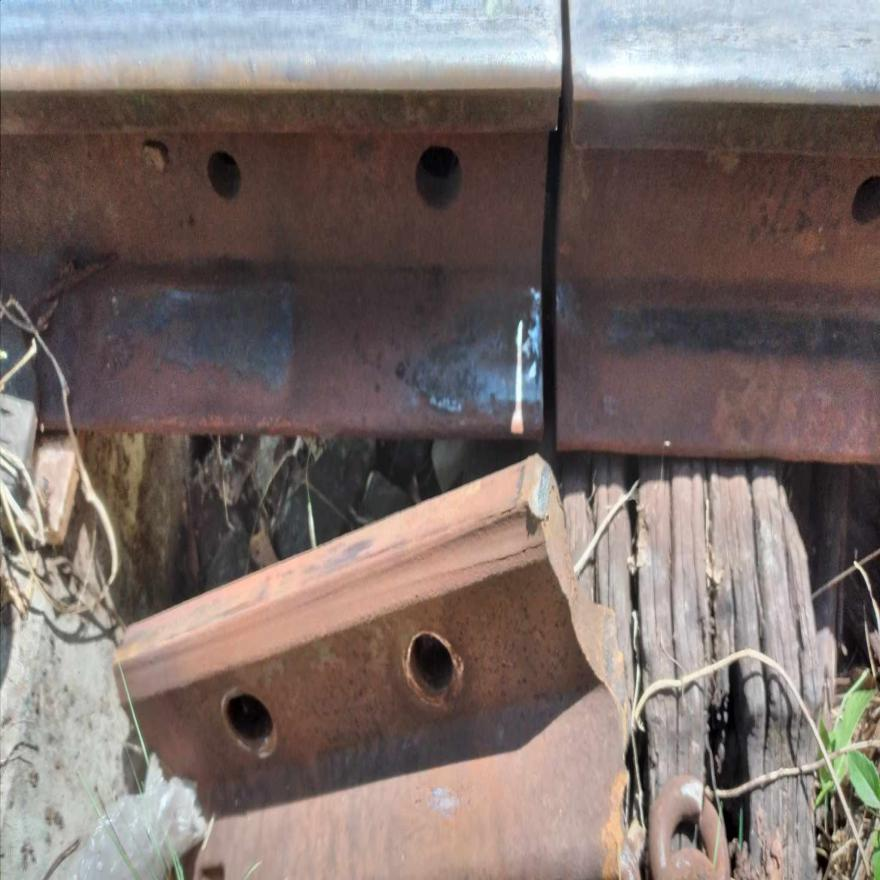railway-gap: (410, 0, 689, 448)
